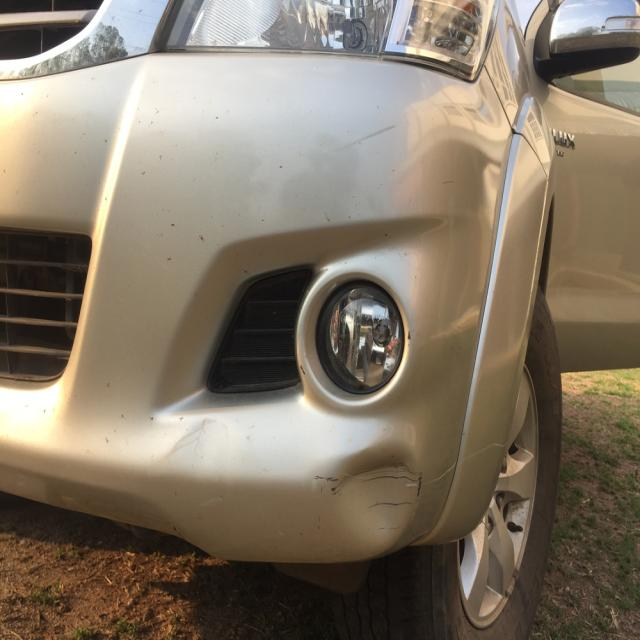dent: (335, 442, 419, 545)
